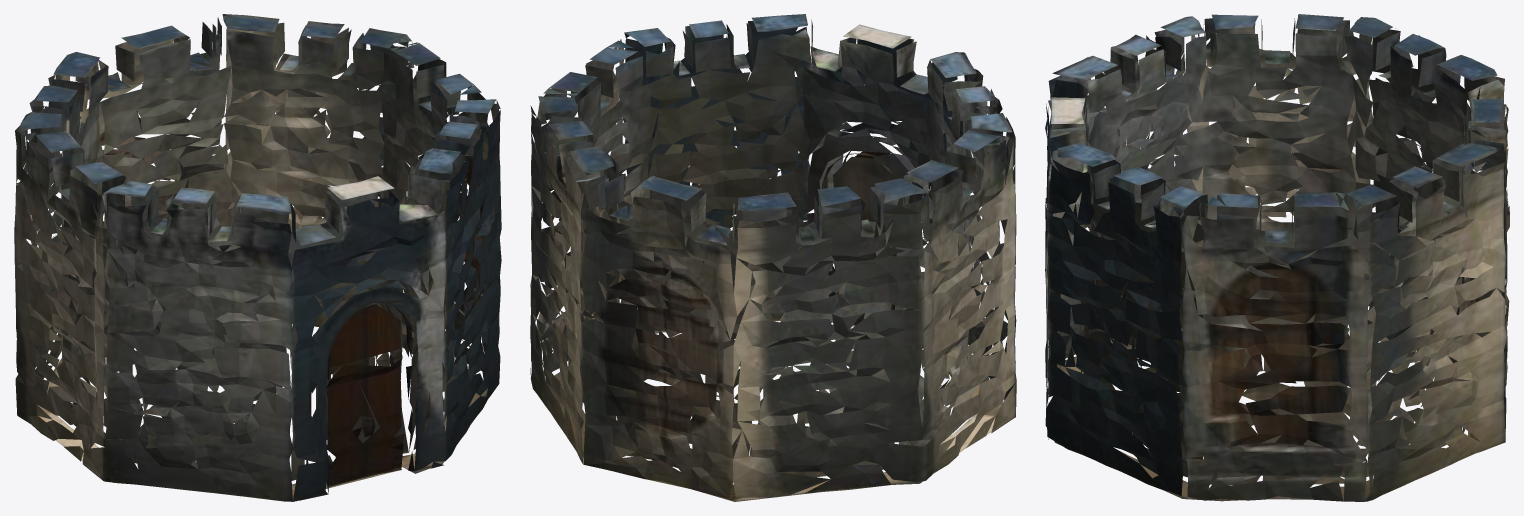
Rendered from meshy_tower_octagon_wall_lod0.glb.
3 views of the same model, side by side, from view 1: azimuth 30°, elevation 25°; view 2: azimuth 150°, elevation 25°; view 3: azimuth 270°, elevation 25° (orthographic).
Visible parts, largest first — view 1: meshy_tower_octagon_wall; view 2: meshy_tower_octagon_wall; view 3: meshy_tower_octagon_wall.
Part boxes in pixels (box(x1,y1,x2,y2)): meshy_tower_octagon_wall: box(14, 14, 501, 501); meshy_tower_octagon_wall: box(530, 14, 1016, 501); meshy_tower_octagon_wall: box(1045, 14, 1509, 501).
Size of the model in its own units: 12.9 by 9 by 12.81.
1 material, 1 textured.
